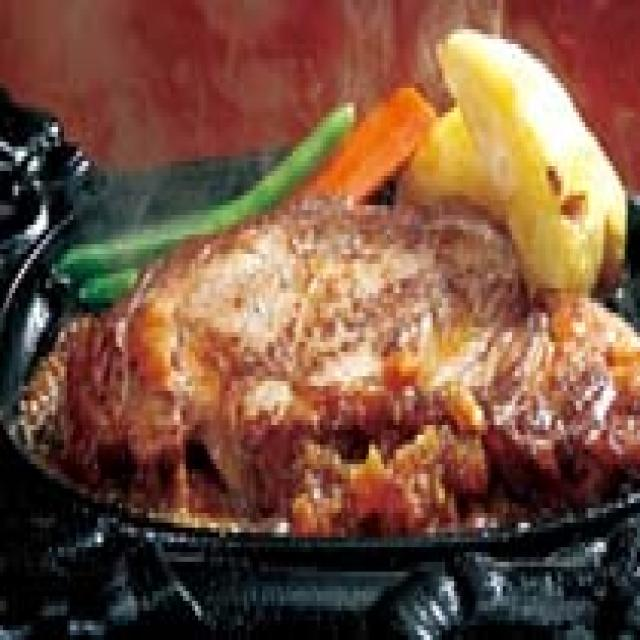牛肉菜式: (36, 180, 640, 552)
